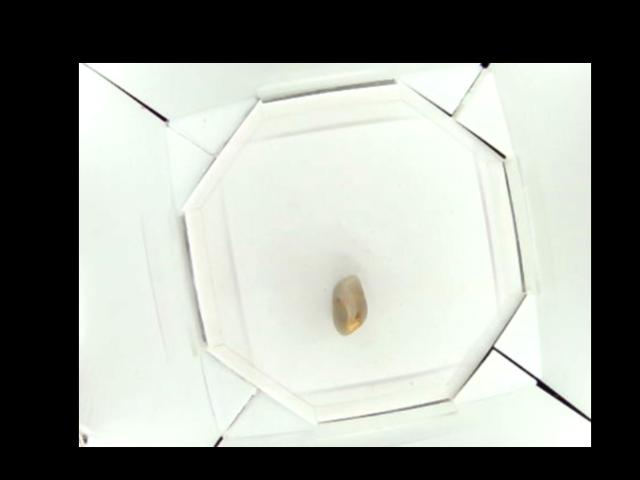Pebble: (332, 275, 367, 339)
